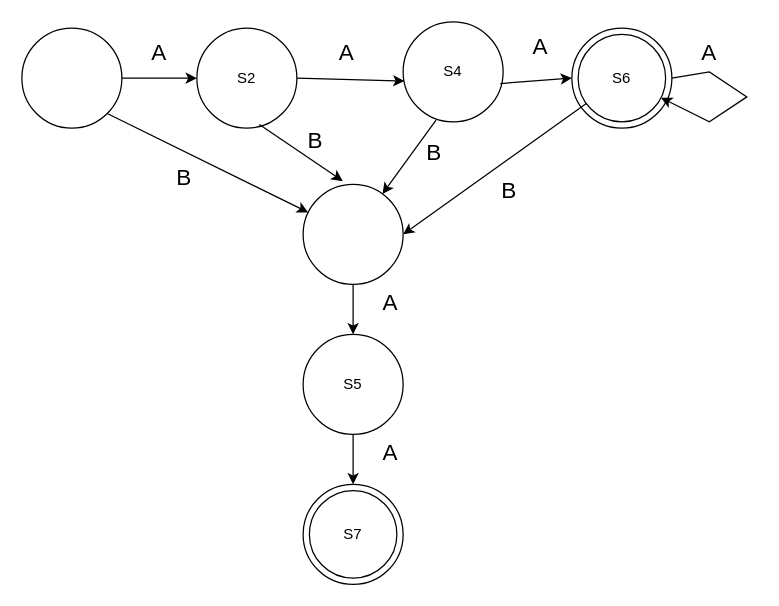
Image size: 779x606. Some labels were removed from this diagram. Here are the shapes that lost their labels. From the top down, the box of each, then its label:
(21, 27, 122, 128): S1
(302, 183, 403, 284): S3
